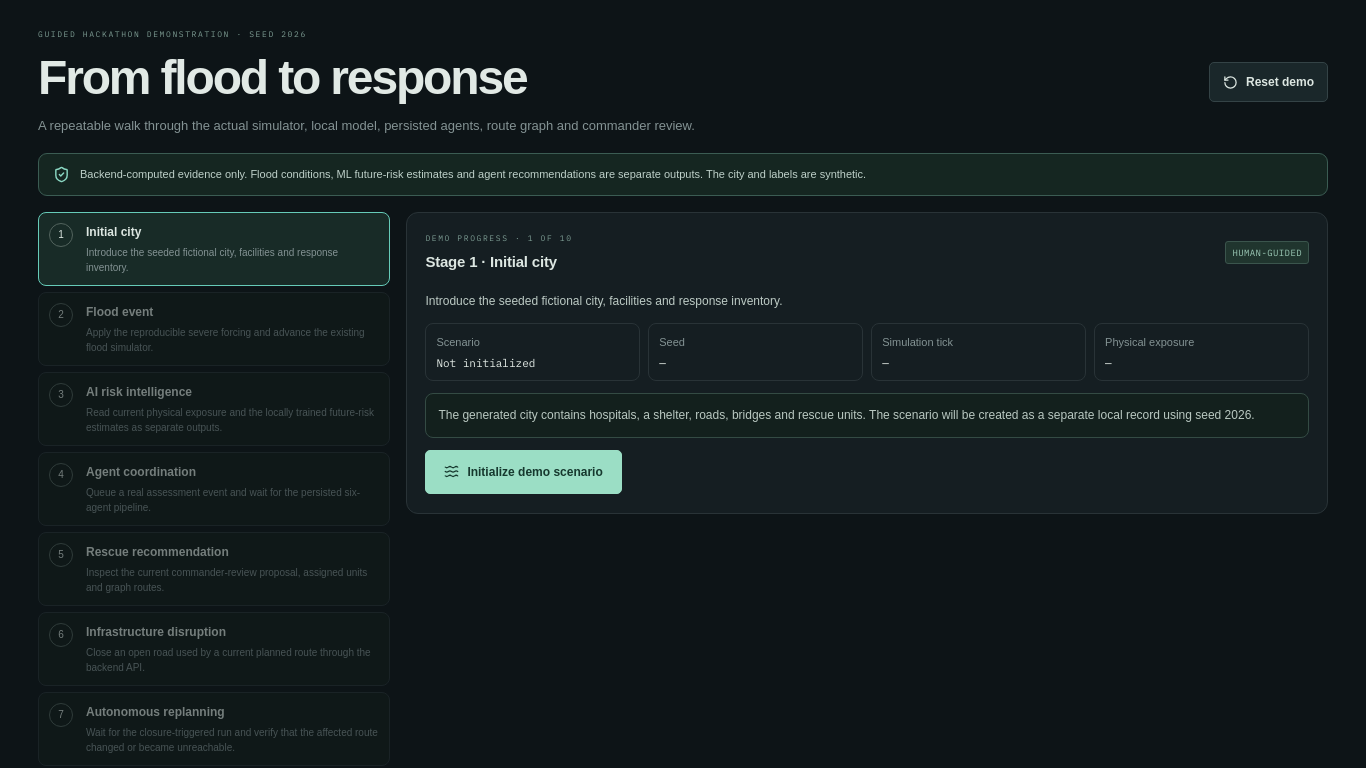
it: guided demo › shows a failed authoritative action without advancing the demo stage
This screenshot has width=1366, height=768.
Click the button "Initialize demo scenario" at (524, 472), box x1=425 y1=450 x2=622 y2=494
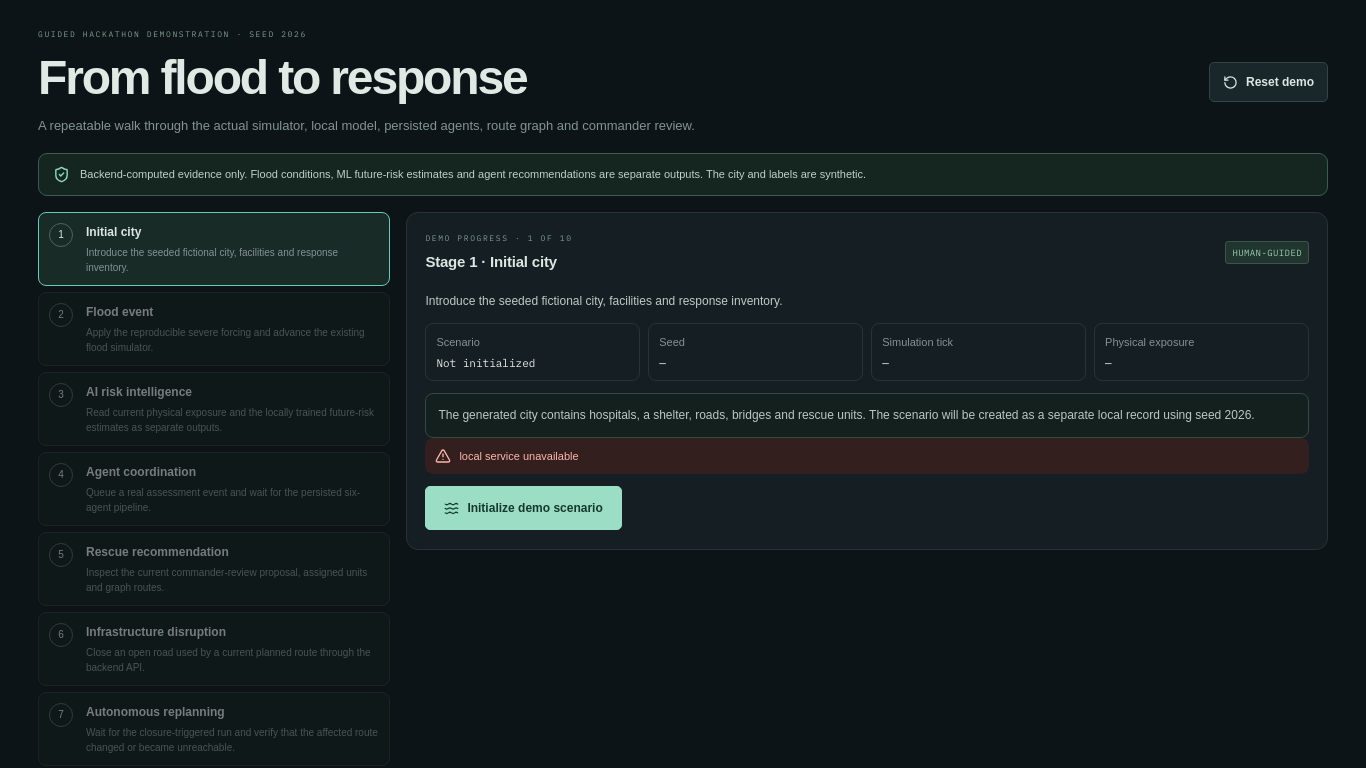
Expected: the heading "Stage 1 · Initial city" is shown, x1=425 y1=250 x2=573 y2=273
Now the message reads "local service unavailable", box x1=459 y1=450 x2=579 y2=462
